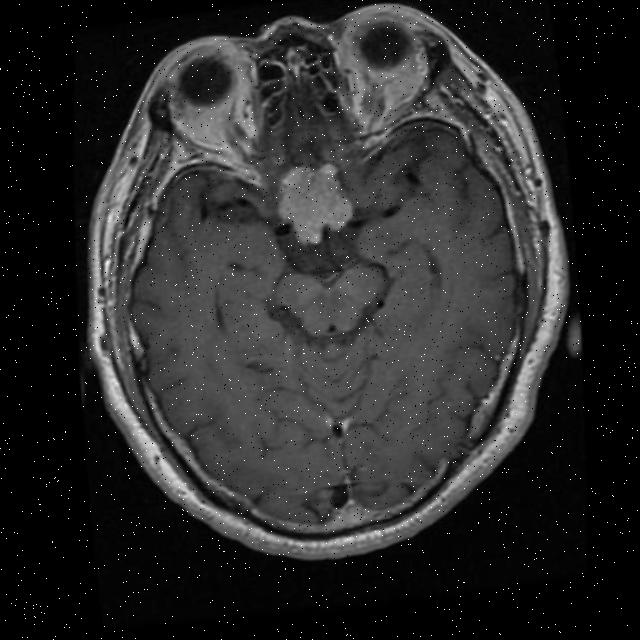Pituitary: (274, 159, 355, 248)
